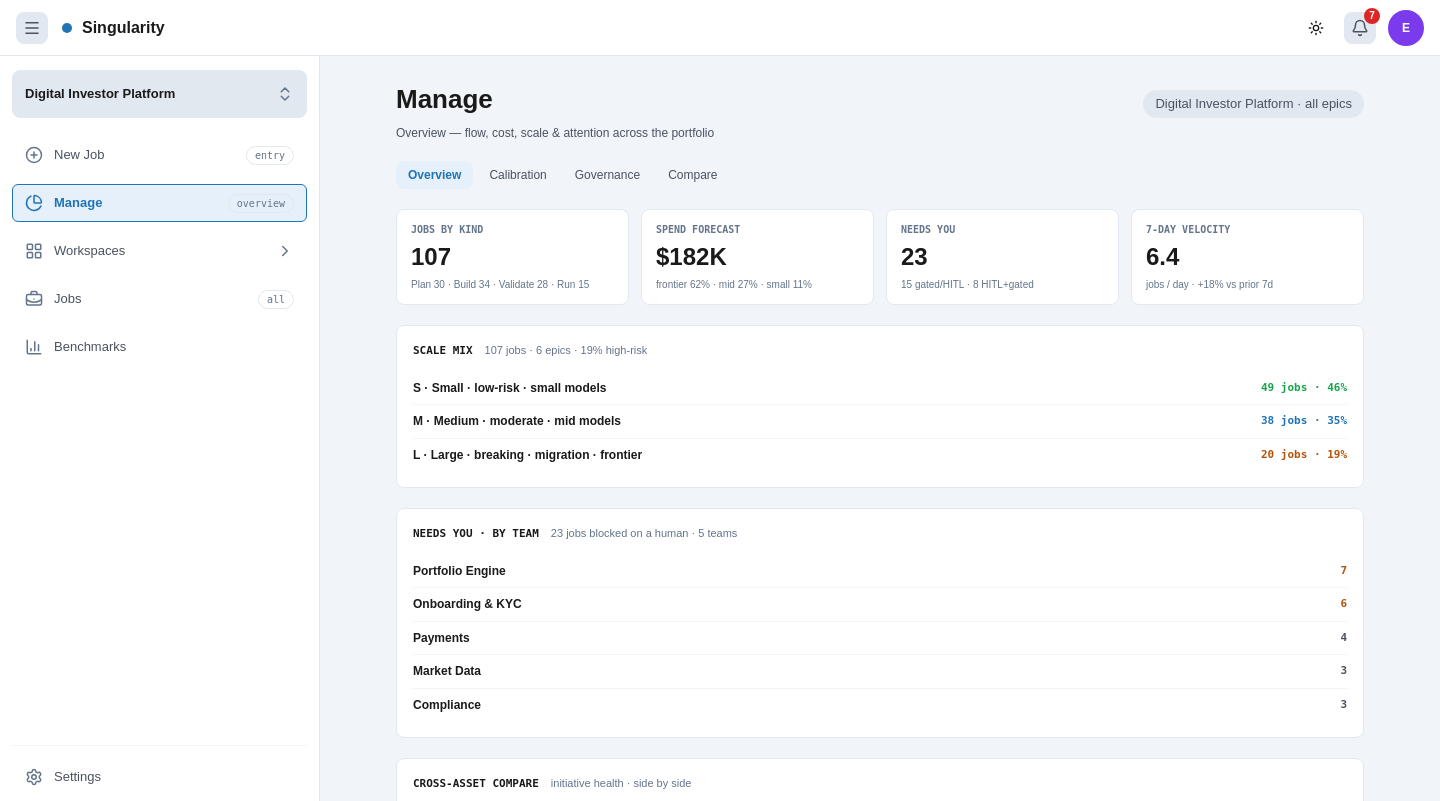
Scenario: Workbench pages › renders Manage with its four views
Check: the heading "Manage" is shown, box [396, 80, 493, 119]
Check: the text "SCALE MIX" is shown, box [413, 343, 473, 360]
Click the button "Governance".
click(608, 175)  # box [563, 161, 652, 189]
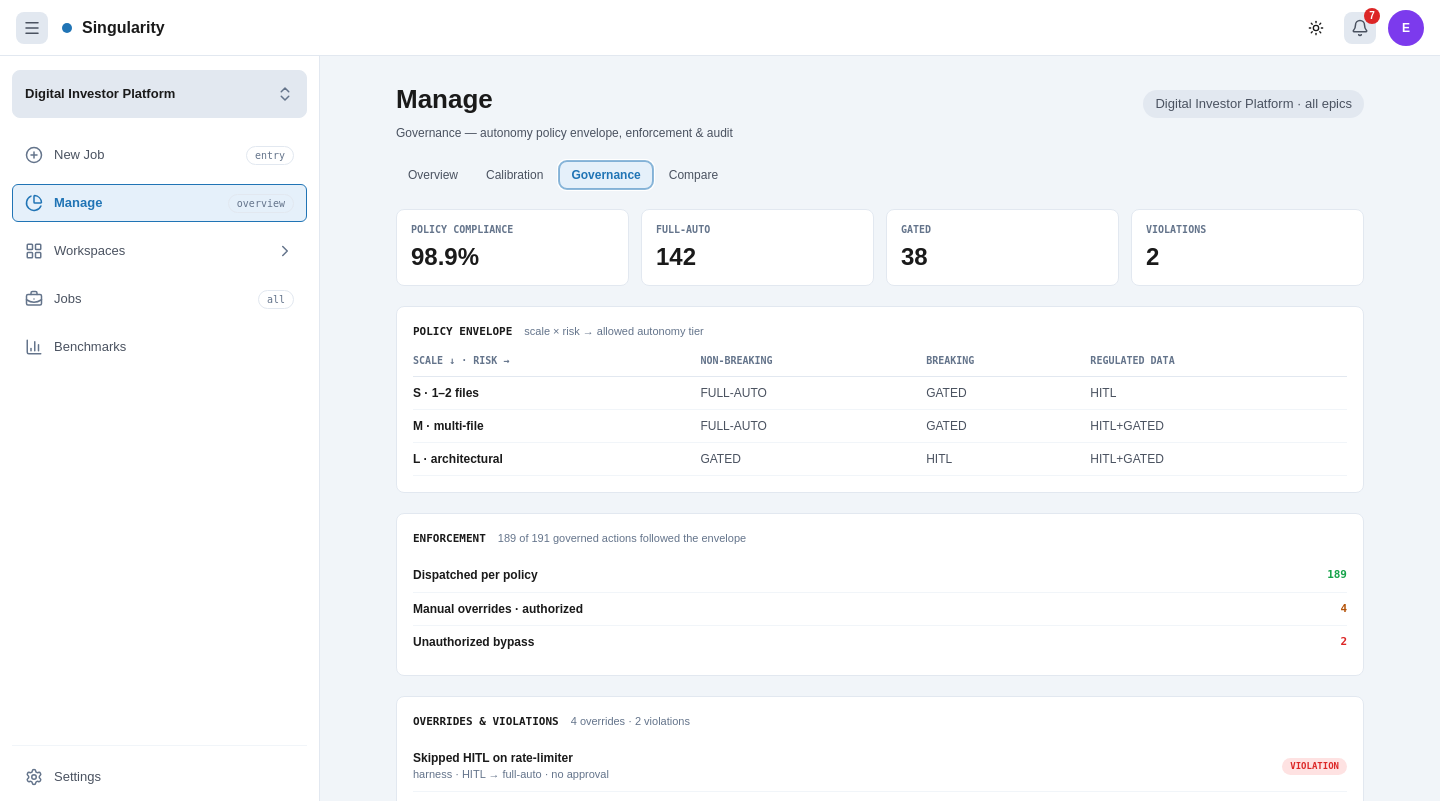
Check: the text "POLICY ENVELOPE" is shown, box [413, 324, 512, 340]
Check: the text "Skipped HITL on rate-limiter" is shown, box [413, 750, 573, 766]
Click the button "Compare".
click(694, 175)  # box [657, 161, 730, 189]
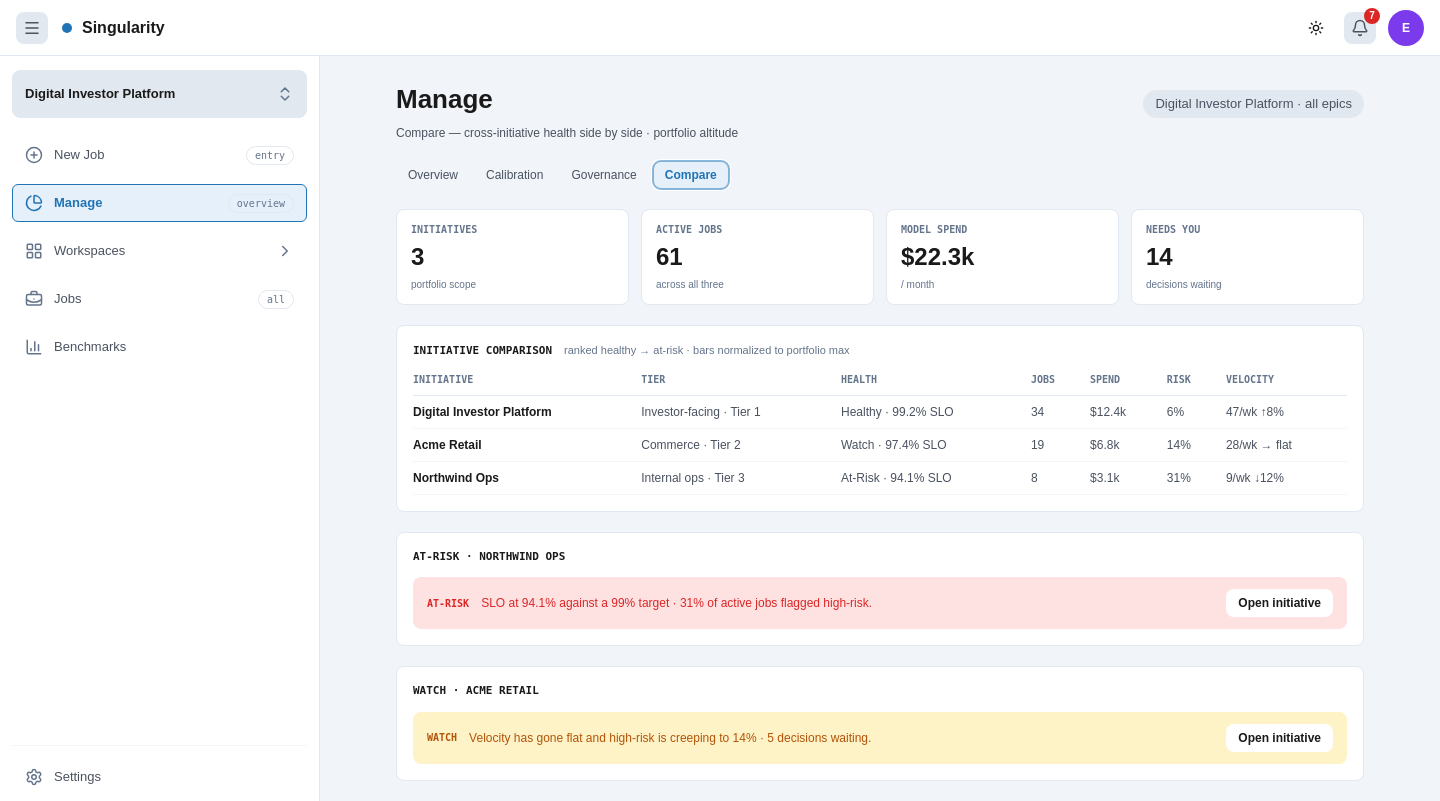
Check: the text "INITIATIVE COMPARISON" is shown, box [413, 343, 552, 360]
